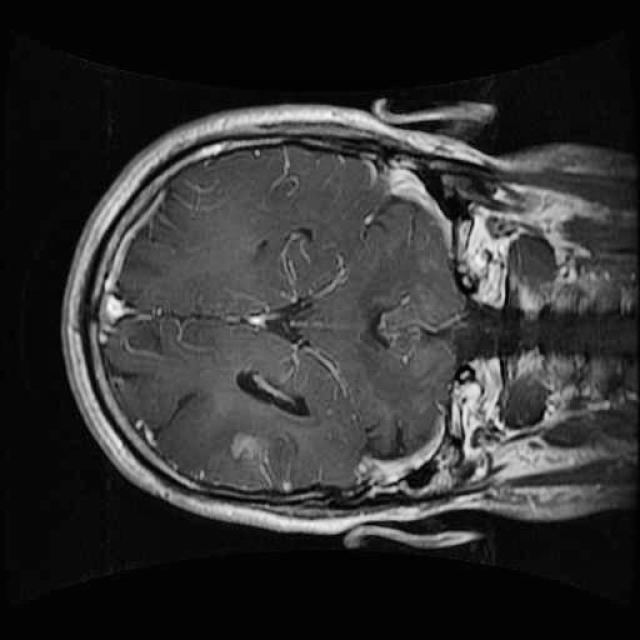Tumor: (230, 360, 320, 428)
